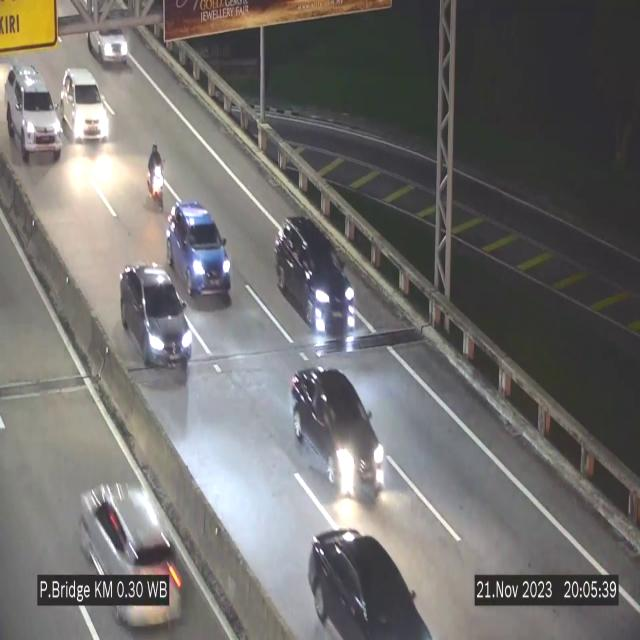Car: (291, 360, 384, 508), (275, 215, 356, 341), (120, 264, 193, 366), (167, 200, 231, 298), (7, 66, 61, 162), (60, 68, 110, 142)
Motorcycle: (147, 144, 165, 212)
